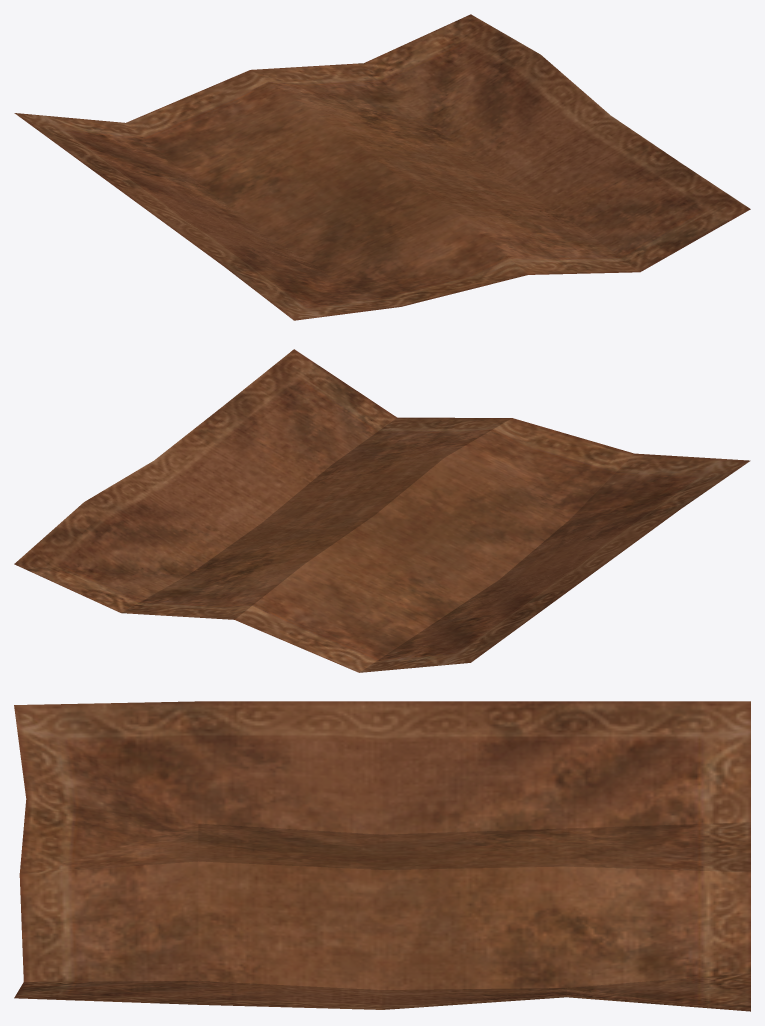
File: Cloth02_Parts_Build_001.FBX
The picture shows the model from 3 angles, top to bottom: view 1: azimuth 30°, elevation 25°; view 2: azimuth 150°, elevation 25°; view 3: azimuth 270°, elevation 25°; orthographic projection. The views are drawn at different scales.
Parts seen in each view (by area): view 1: Cloth02_Parts_Build_001; view 2: Cloth02_Parts_Build_001; view 3: Cloth02_Parts_Build_001.
Boxes of the visible parts, bbox=[...] form: Cloth02_Parts_Build_001: bbox=[14, 14, 750, 320]; Cloth02_Parts_Build_001: bbox=[14, 349, 750, 672]; Cloth02_Parts_Build_001: bbox=[14, 701, 750, 1011].
Bounding box in the file's own units: 179 × 18.27 × 191.
1 material, 1 textured.
